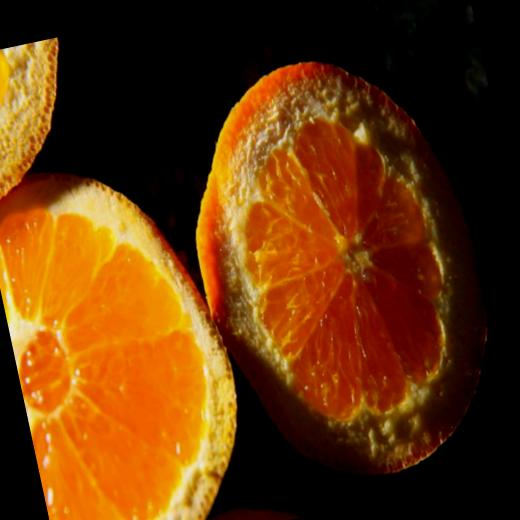Grape: (165, 31, 520, 498), (0, 146, 264, 520), (0, 38, 84, 215)
